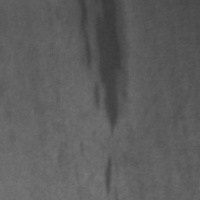inclusion: (77, 6, 137, 139), (94, 151, 127, 199)
